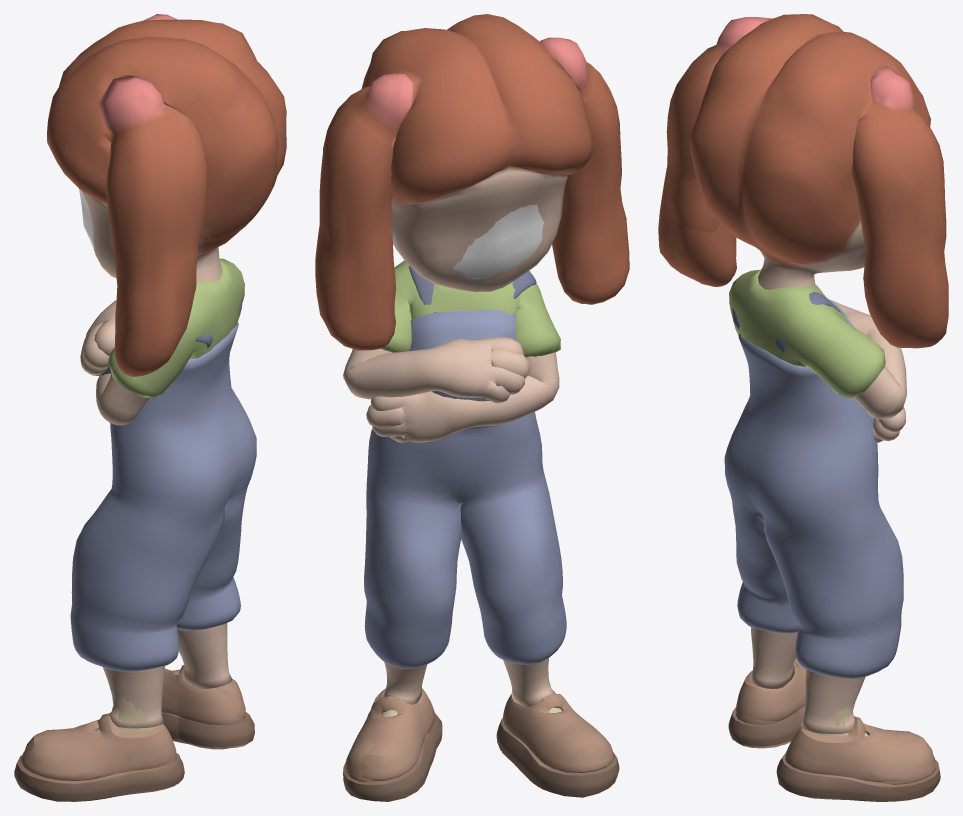
The picture shows the model from 3 angles, left to right: view 1: azimuth 30°, elevation 25°; view 2: azimuth 150°, elevation 25°; view 3: azimuth 270°, elevation 25°; orthographic projection.
Visible parts, largest first — view 1: Arms.057; view 2: Arms.057; view 3: Arms.057.
Part boxes in pixels (x1=…): Arms.057: x1=14, y1=14, x2=286, y2=801; Arms.057: x1=315, y1=14, x2=629, y2=801; Arms.057: x1=658, y1=14, x2=948, y2=801.
Size of the model in its own units: 58.94 by 163 by 58.43.
